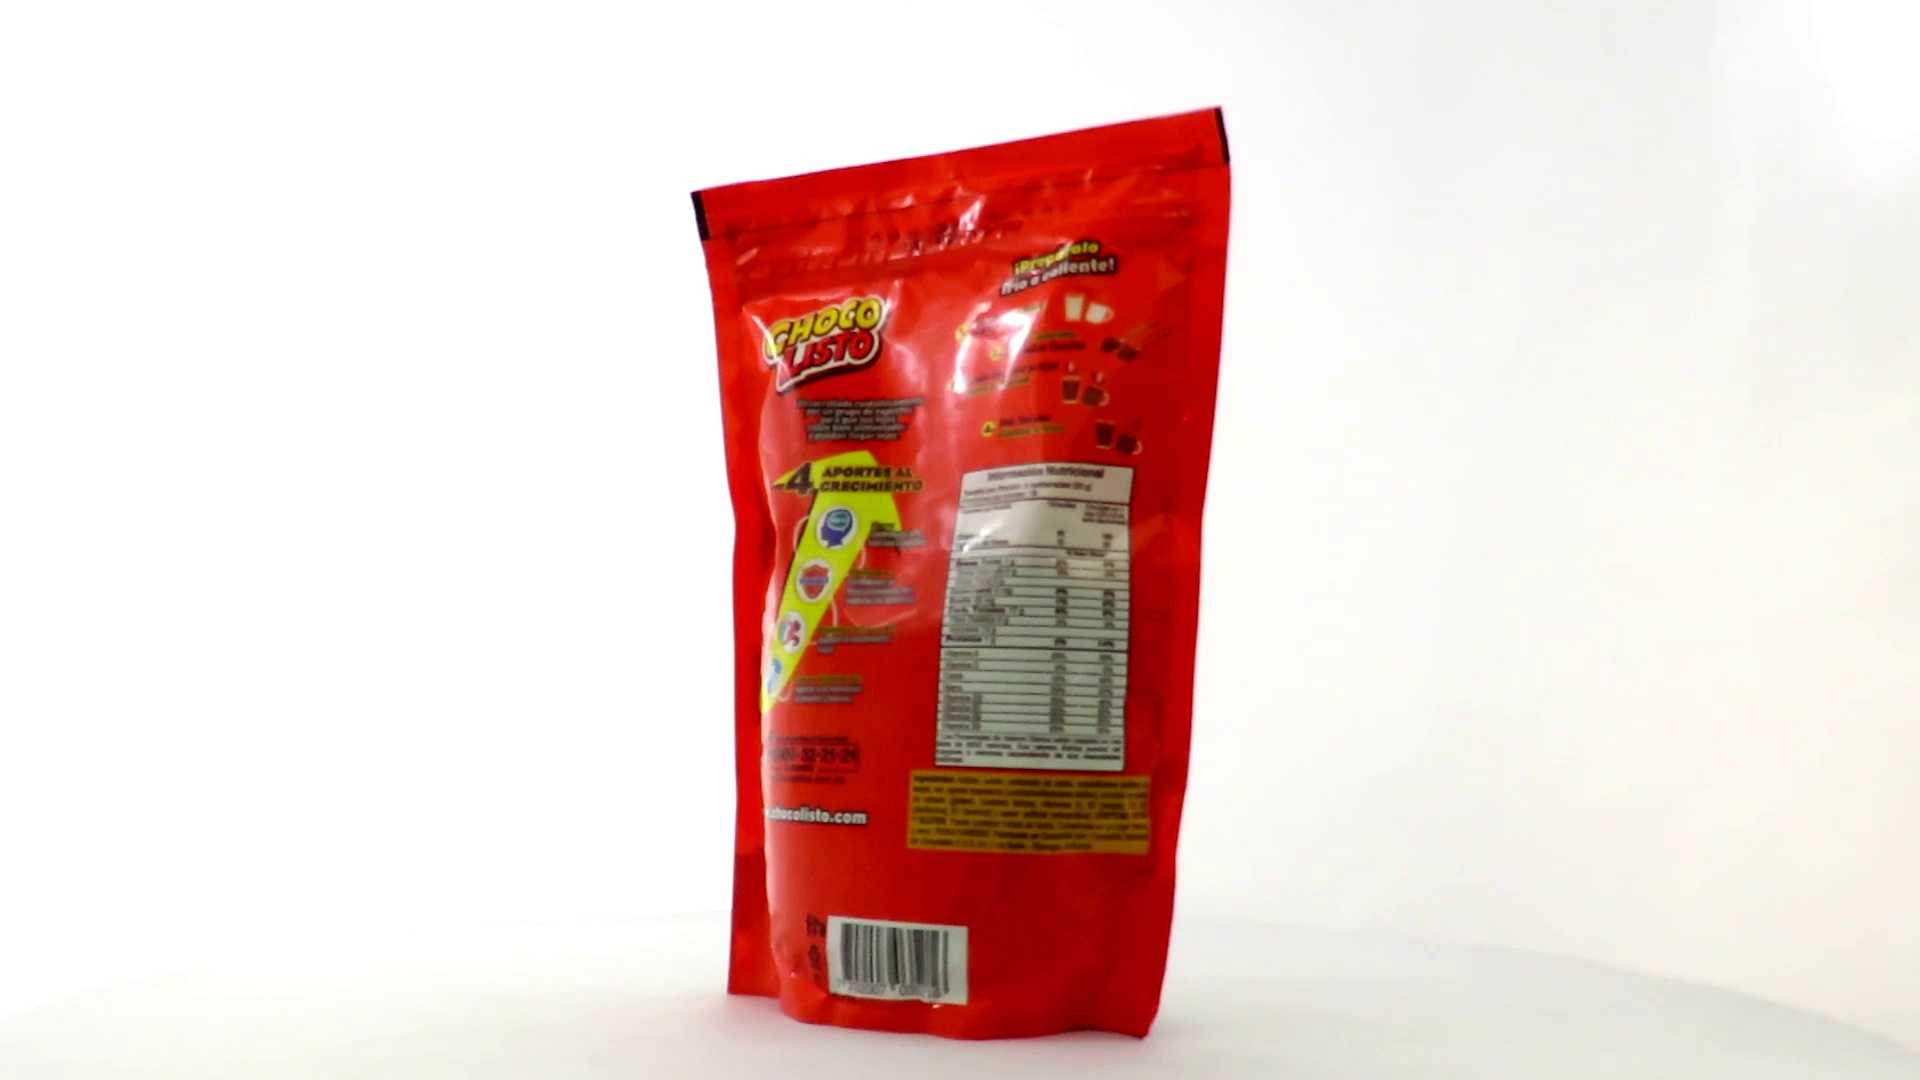COL0170103DYP36000: (684, 102, 1237, 1047)
